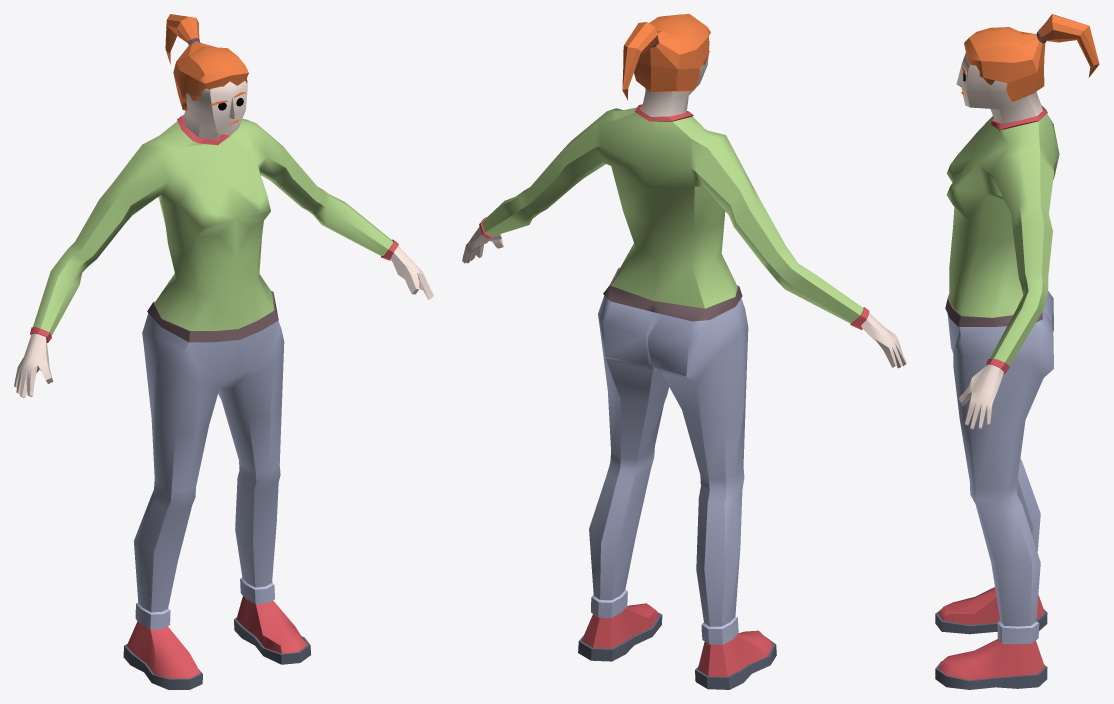
File: char2.fbx
The picture shows the model from 3 angles, left to right: view 1: azimuth 30°, elevation 25°; view 2: azimuth 150°, elevation 25°; view 3: azimuth 270°, elevation 25°; orthographic projection. The views are drawn at different scales.
Parts seen in each view (by area): view 1: lowPolyCharacterFemaleFace7; view 2: lowPolyCharacterFemaleFace7; view 3: lowPolyCharacterFemaleFace7.
Boxes of the visible parts, bbox=[...] form: lowPolyCharacterFemaleFace7: bbox=[14, 14, 433, 689]; lowPolyCharacterFemaleFace7: bbox=[462, 14, 906, 689]; lowPolyCharacterFemaleFace7: bbox=[935, 14, 1099, 689].
Bounding box in the file's own units: 133 × 190 × 44.34.
